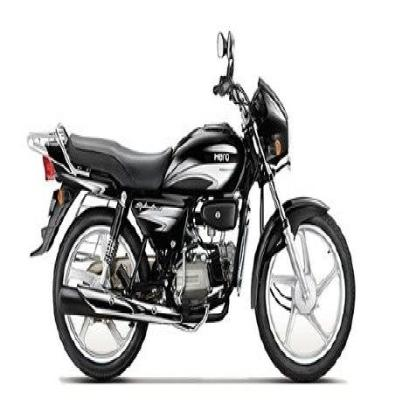bike: (23, 34, 355, 390)
